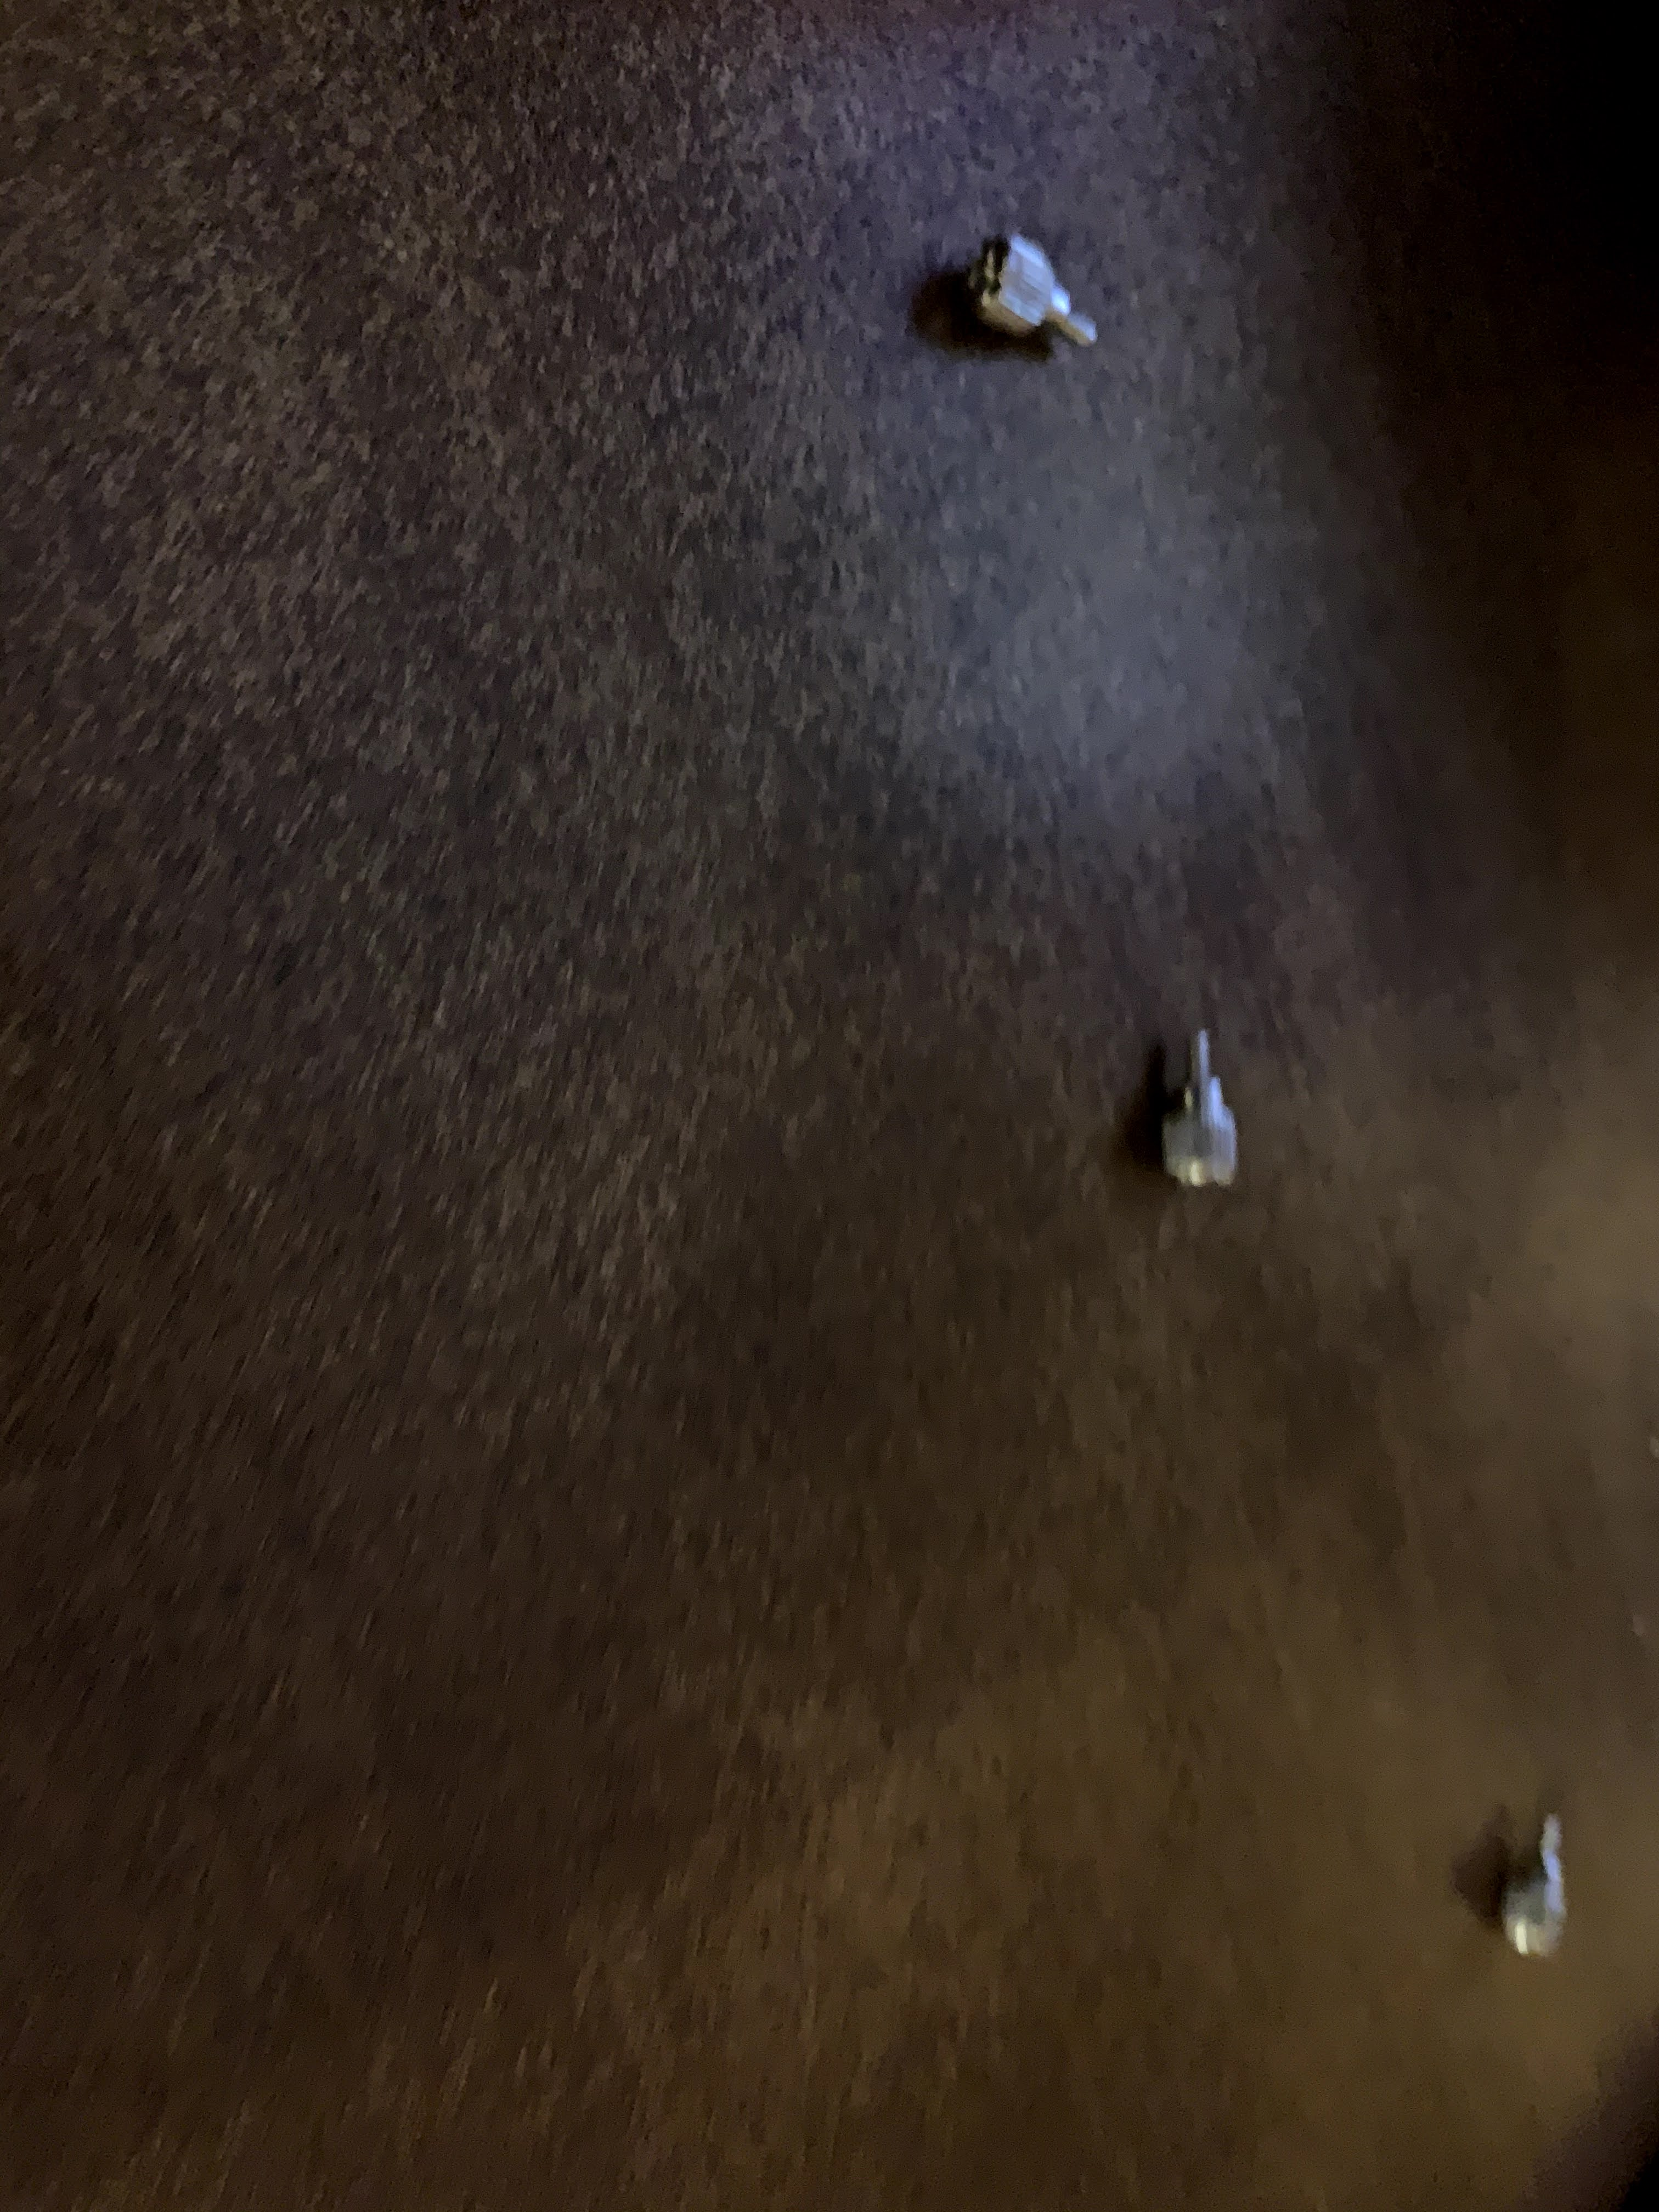Space-debris-small: (955, 211, 1112, 371), (1161, 1017, 1260, 1205), (1486, 1796, 1586, 1977)
